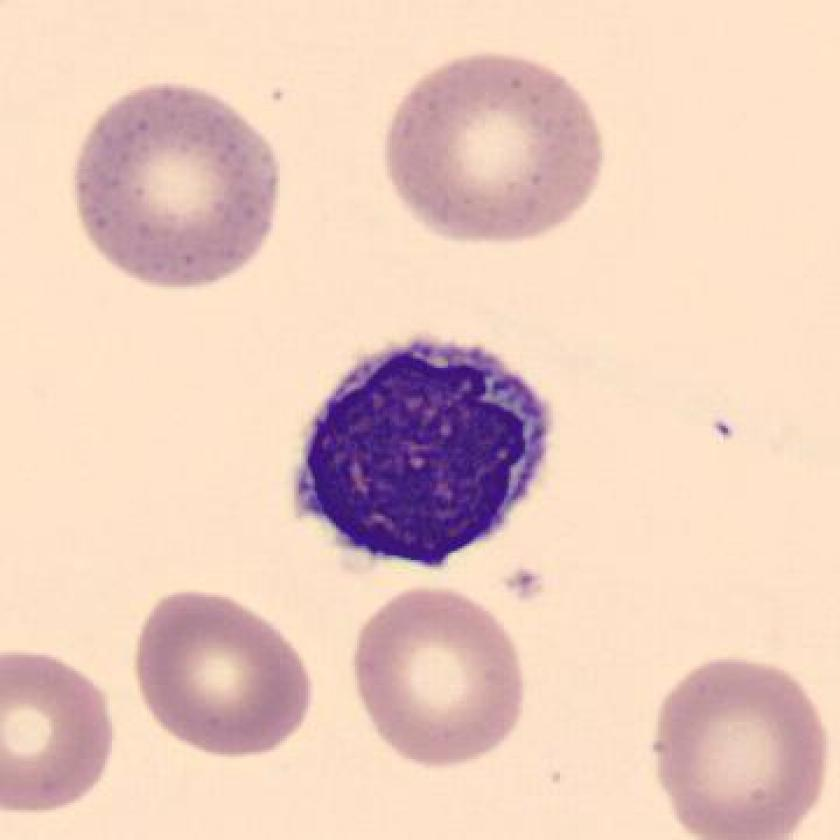lymphocyte: (276, 323, 566, 584)
